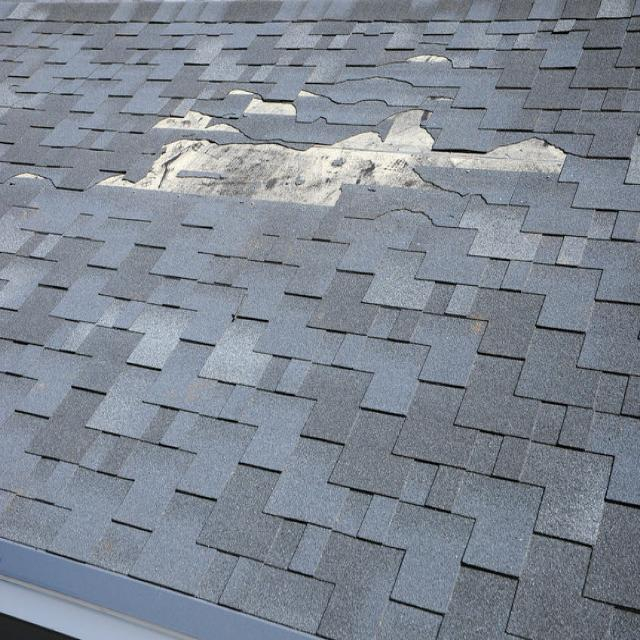damage: (88, 104, 569, 215), (230, 80, 325, 117), (147, 105, 244, 134), (12, 157, 52, 187), (401, 45, 455, 67), (426, 86, 455, 107)
